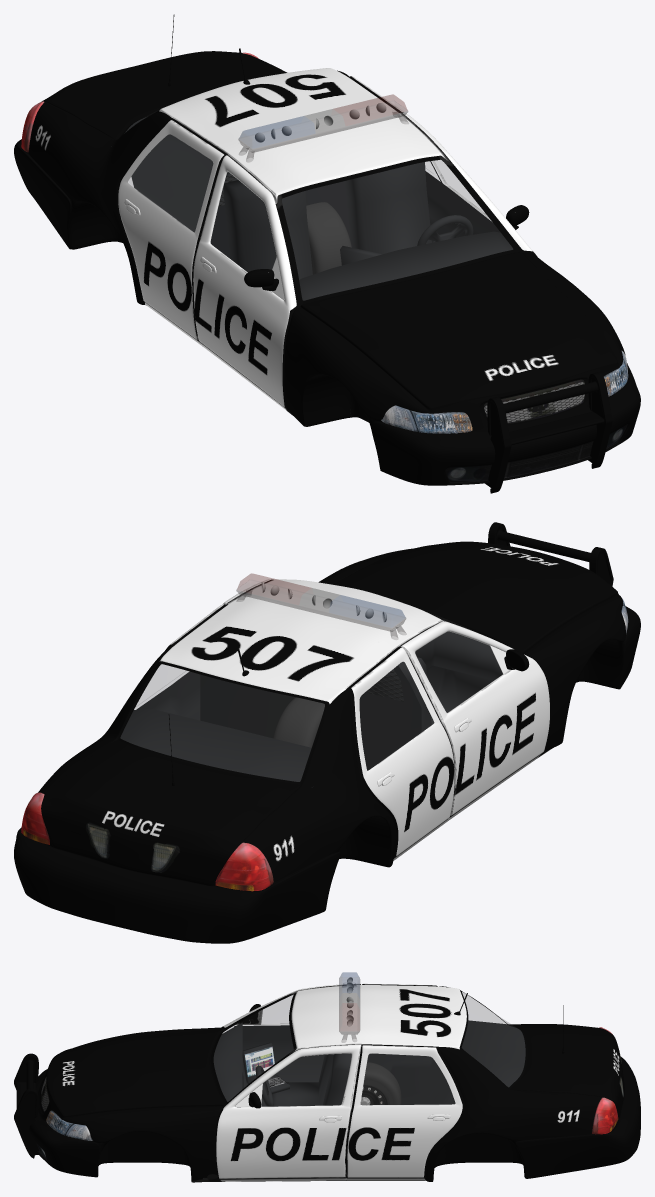
File: asset.gltf
3 renders of one model, top to bottom at view 1: azimuth 30°, elevation 25°; view 2: azimuth 150°, elevation 25°; view 3: azimuth 270°, elevation 25°, orthographic. The views are drawn at different scales.
Parts seen in each view (by area): view 1: CrownVic.Body, windows glass, interior, Roof light bar, CrownVic.Wheel.Ft.L, CrownVic.Wheel.Ft.R; view 2: CrownVic.Body, windows glass, interior, Roof light bar, CrownVic.Wheel.Ft.L, CrownVic.Wheel.Ft.R; view 3: CrownVic.Body, windows glass, interior, Roof light bar, CrownVic.Wheel.Ft.L.
Part boxes in pixels (left/top/right/bottom): CrownVic.Body: left=14, top=14, right=640, bottom=493; windows glass: left=126, top=111, right=512, bottom=300; interior: left=111, top=116, right=513, bottom=300; Roof light bar: left=238, top=94, right=408, bottom=162; CrownVic.Wheel.Ft.L: left=307, top=202, right=351, bottom=274; CrownVic.Wheel.Ft.R: left=306, top=206, right=333, bottom=274; CrownVic.Body: left=14, top=522, right=640, bottom=943; windows glass: left=121, top=613, right=502, bottom=781; interior: left=120, top=620, right=502, bottom=787; Roof light bar: left=236, top=573, right=406, bottom=639; CrownVic.Wheel.Ft.L: left=273, top=697, right=314, bottom=742; CrownVic.Wheel.Ft.R: left=293, top=701, right=324, bottom=747; CrownVic.Body: left=14, top=983, right=640, bottom=1182; windows glass: left=214, top=992, right=525, bottom=1106; interior: left=213, top=1020, right=525, bottom=1107; Roof light bar: left=339, top=972, right=359, bottom=1042; CrownVic.Wheel.Ft.L: left=360, top=1064, right=401, bottom=1105.
Bounding box in the file's own units: 2.48 × 1.74 × 6.7.
Materials: 7 (5 with a texture image).
